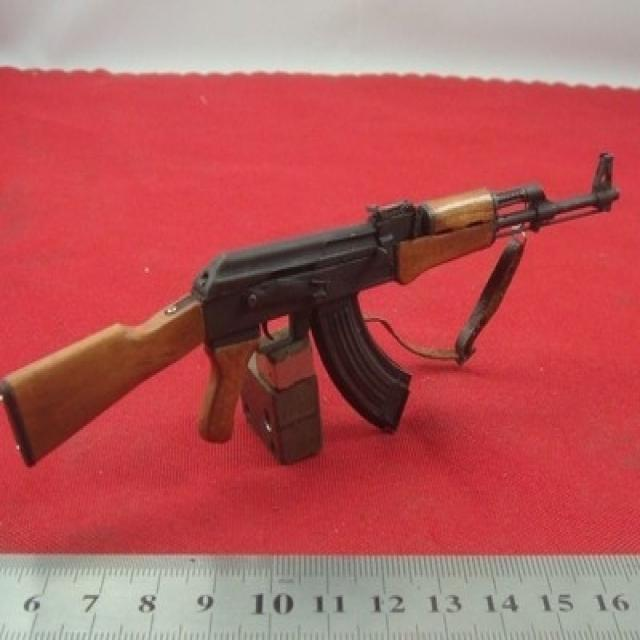ak: (1, 131, 634, 485)
